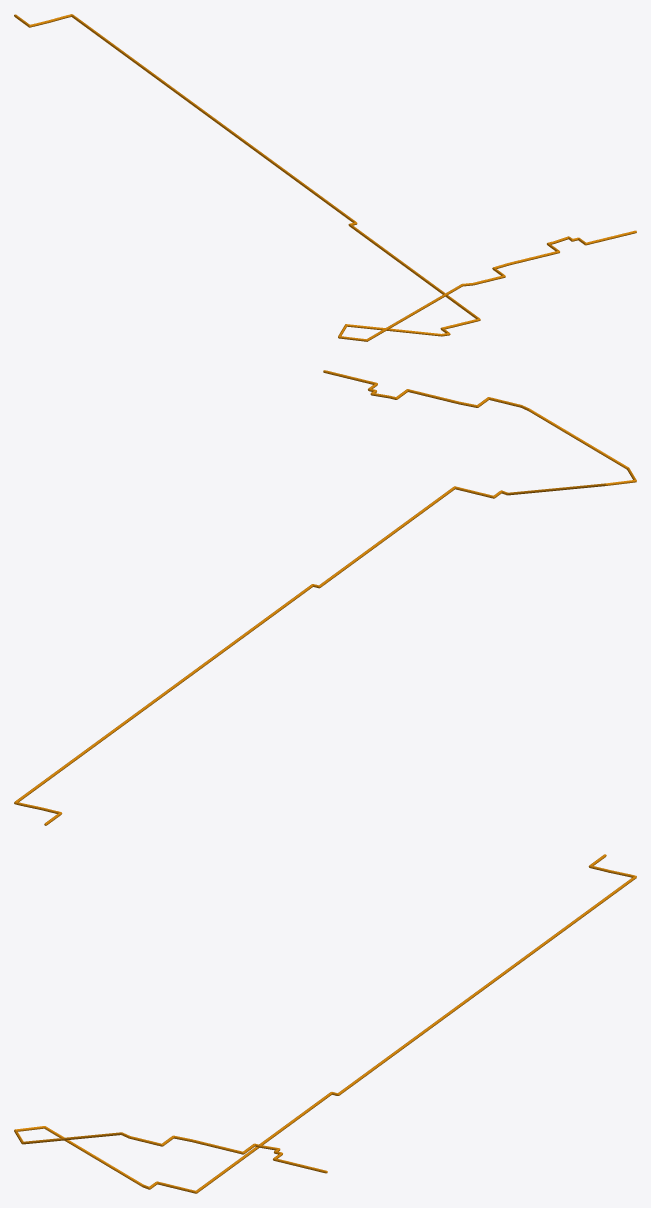
3 views of the same model, one above another, from view 1: azimuth 30°, elevation 25°; view 2: azimuth 150°, elevation 25°; view 3: azimuth 330°, elevation 25° (orthographic). The views are drawn at different scales.
Size of the model in its own units: 2402 by 520 by 6362.
